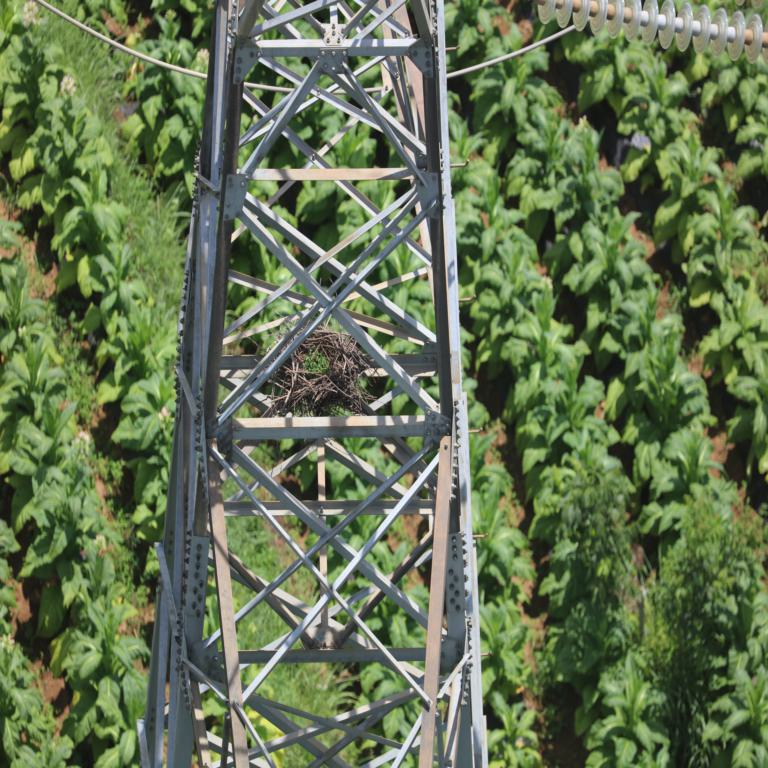nest: (267, 326, 365, 414)
